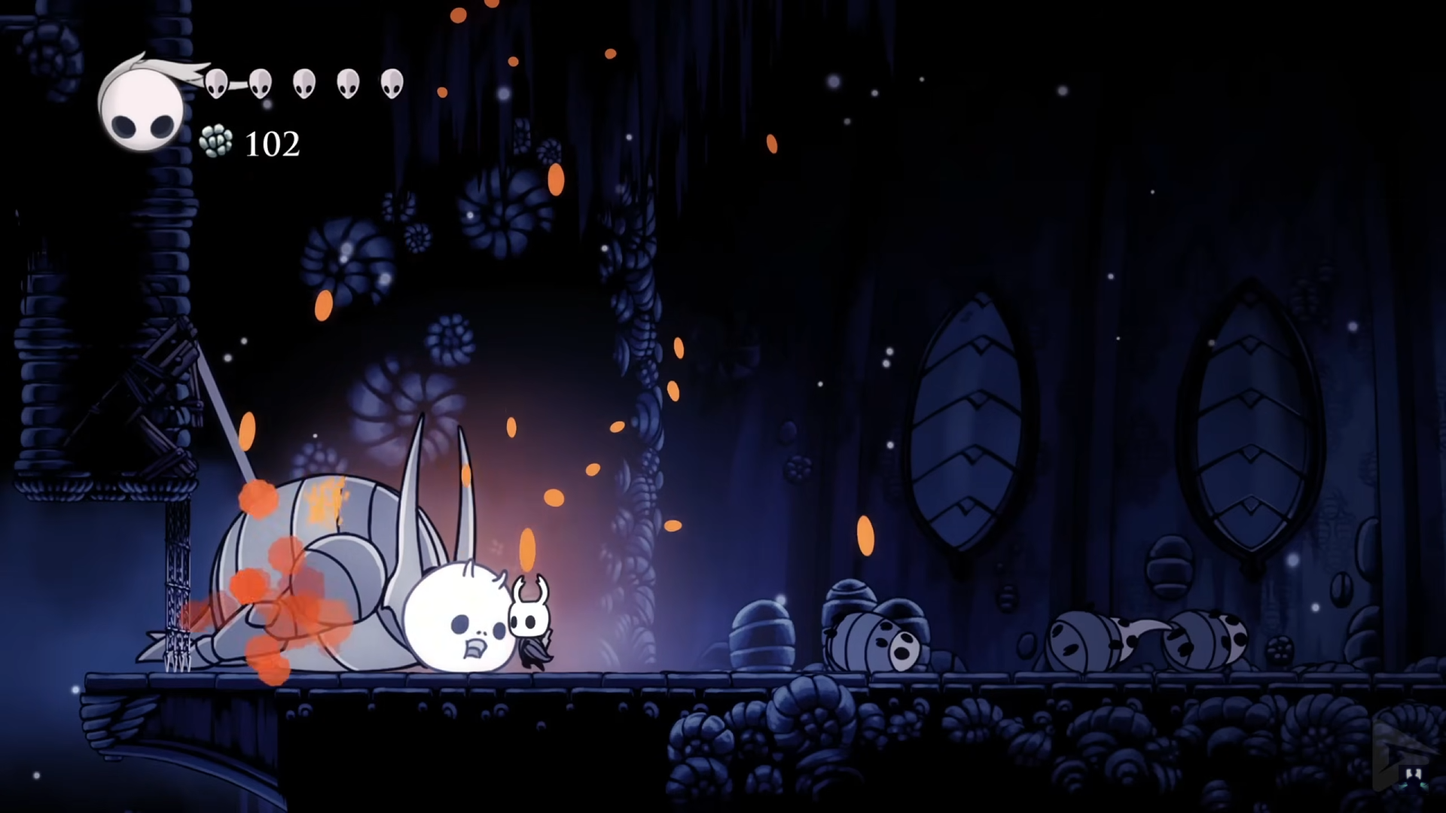HK: (507, 570, 559, 679)
